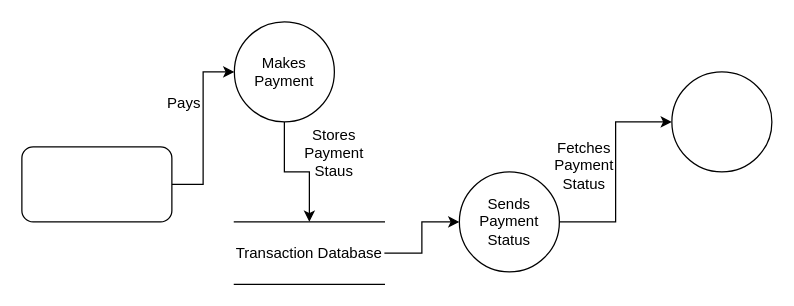
The diagram is 794 pixels wide and 306 high, and some of its shapes have lost their labels. The shapes that lost their labels are listed below. From the top down, each one's centre as x and y in pixels, then its label:
(x=721, y=121): Document Management
(x=96, y=184): Student
